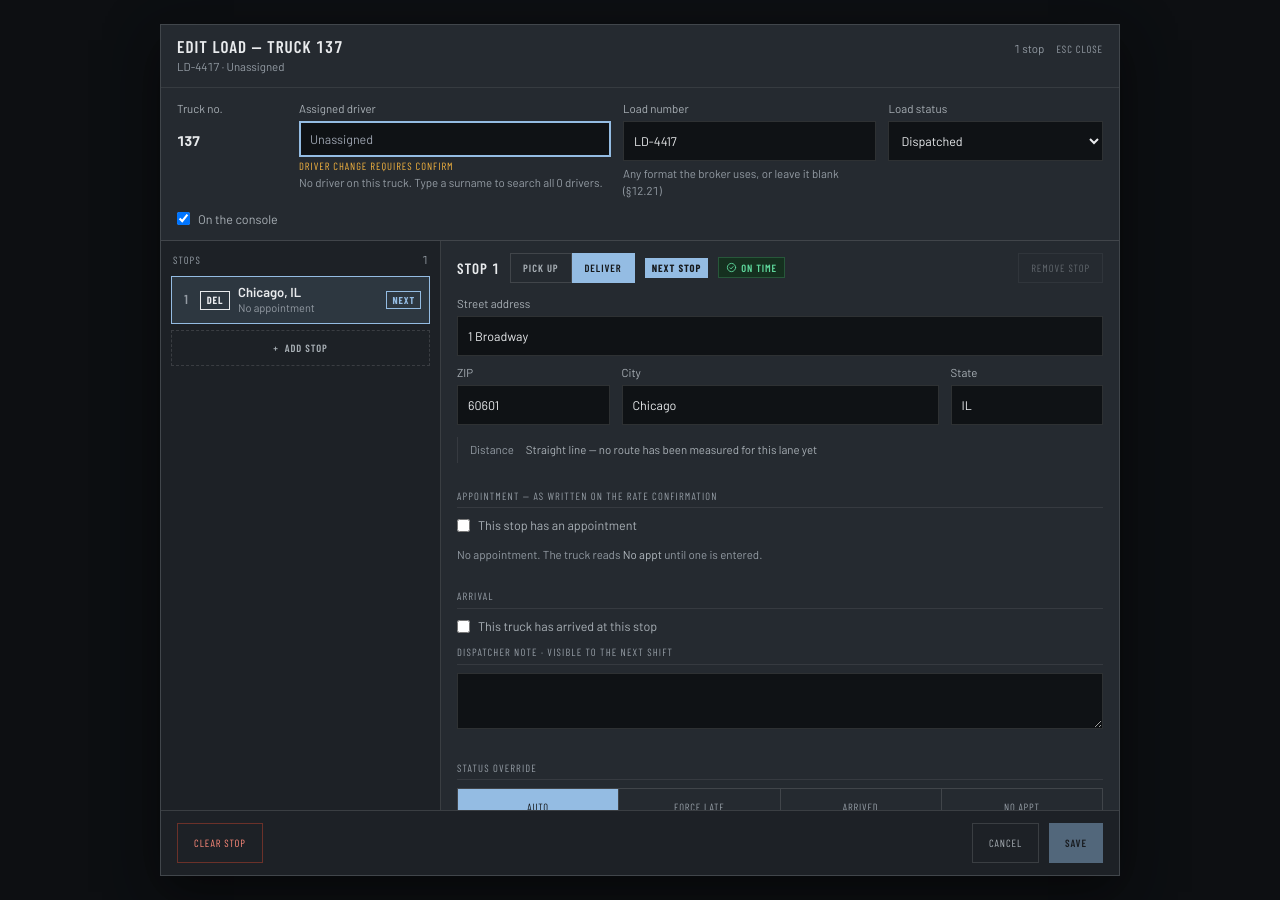
it: the Active checkbox actually flips the flag (§12.14, §12.53) › names the unsaved flag in the dirty banner
The image size is (1280, 900).
Click the checkbox named "Active — on the console" at [184, 219], box [177,212,190,225]
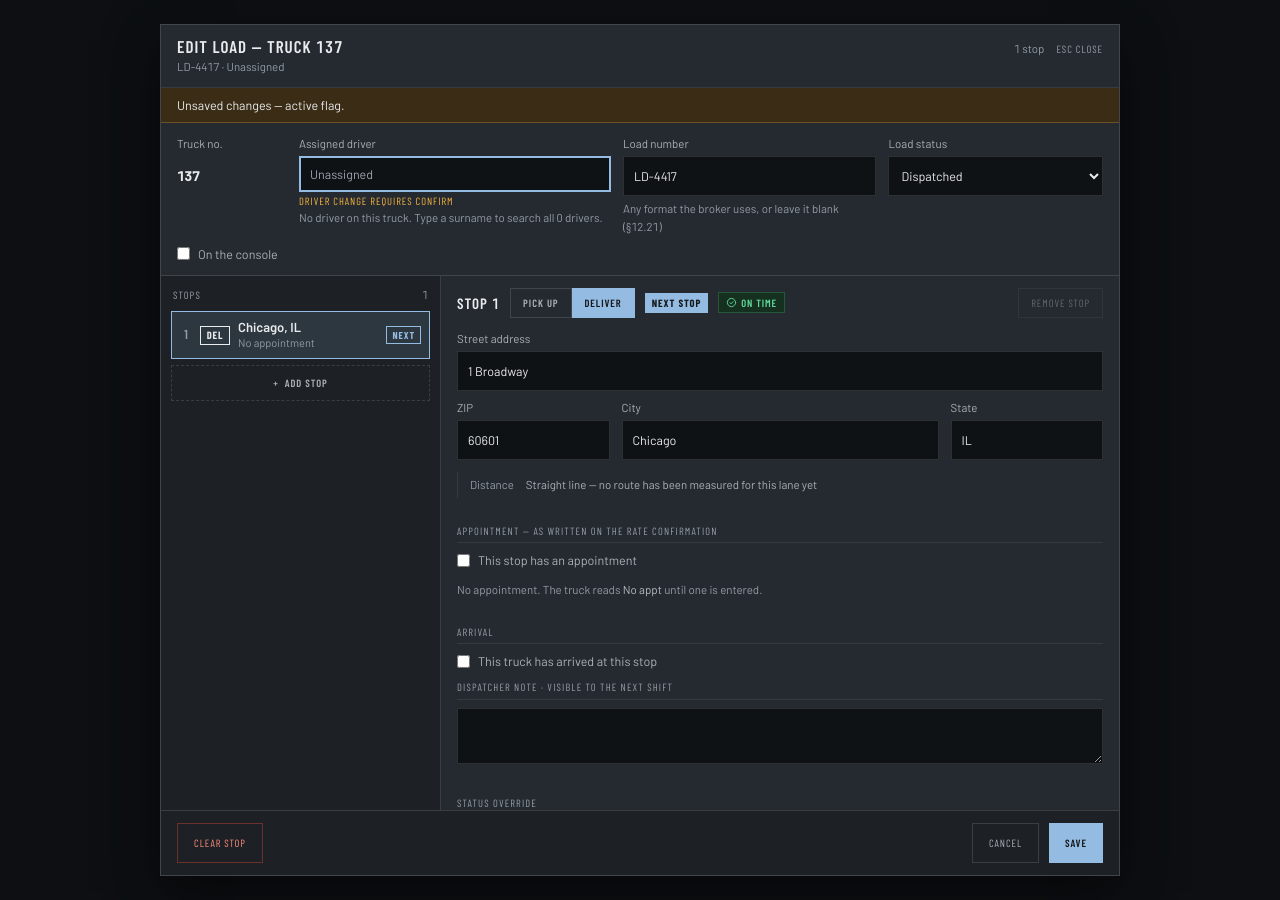
Expected: the text "Unsaved changes" is shown, [177,97,285,113]
Expected: the text "active flag" is shown, [285,97,341,113]
